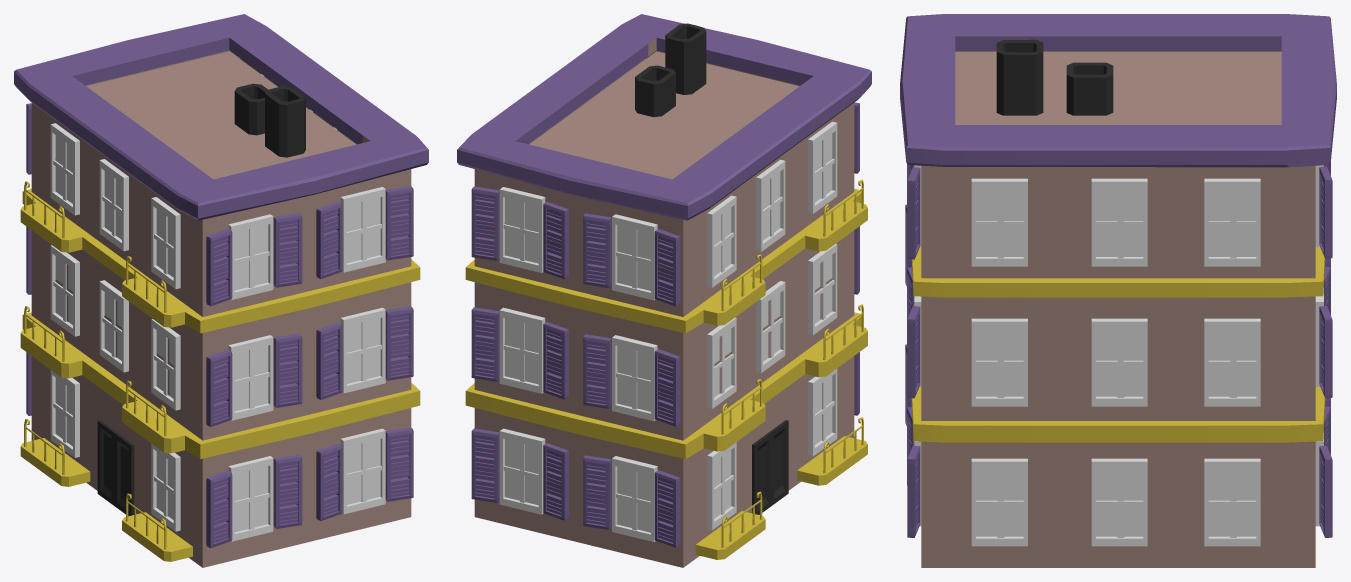
Rendered from batiment 3 (1).FBX.
3 views of the same model, side by side, from view 1: azimuth 30°, elevation 25°; view 2: azimuth 150°, elevation 25°; view 3: azimuth 270°, elevation 25° (orthographic). The views are drawn at different scales.
Visible parts, largest first — view 1: Box002, Object004, Box030, Object009, Object007, Object002, Object003, Object005, Object006; view 2: Box002, Object004, Box030, Object008, Object007, Object002, Object003, Object005, Object006; view 3: Box002, Object010, Object004, Object003, Box030, Object005, Object008, Object009.
Part boxes in pixels (left/top/right/bottom): Box002: left=31, top=50, right=411, bottom=567; Object004: left=14, top=14, right=428, bottom=220; Box030: left=26, top=103, right=413, bottom=548; Object009: left=228, top=187, right=385, bottom=541; Object007: left=50, top=123, right=180, bottom=531; Object002: left=20, top=181, right=192, bottom=561; Object003: left=22, top=189, right=420, bottom=458; Object005: left=234, top=83, right=305, bottom=157; Object006: left=97, top=420, right=134, bottom=516; Box002: left=474, top=38, right=854, bottom=567; Object004: left=457, top=14, right=871, bottom=220; Box030: left=471, top=102, right=859, bottom=547; Object008: left=499, top=187, right=657, bottom=541; Object007: left=707, top=121, right=837, bottom=530; Object002: left=695, top=179, right=867, bottom=559; Object003: left=465, top=189, right=861, bottom=458; Object005: left=635, top=23, right=706, bottom=117; Object006: left=752, top=420, right=788, bottom=514; Box002: left=921, top=51, right=1315, bottom=567; Object010: left=971, top=178, right=1260, bottom=546; Object004: left=900, top=14, right=1336, bottom=167; Object003: left=911, top=247, right=1325, bottom=442; Box030: left=905, top=162, right=1332, bottom=537; Object005: left=996, top=39, right=1113, bottom=115; Object008: left=1315, top=165, right=1323, bottom=526; Object009: left=914, top=165, right=921, bottom=526.
Size of the model in its own units: 890 by 1394 by 1164.
